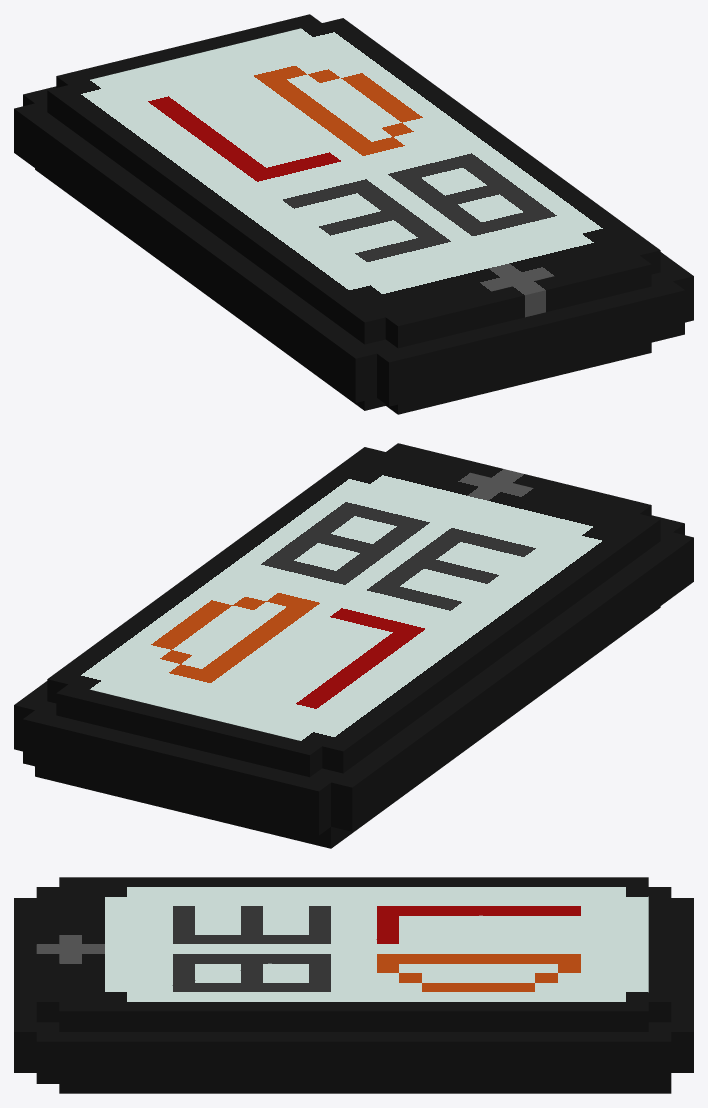
File: Smartphone.fbx
3 renders of one model, top to bottom at view 1: azimuth 30°, elevation 25°; view 2: azimuth 150°, elevation 25°; view 3: azimuth 270°, elevation 25°, orthographic. The views are drawn at different scales.
Visible parts, largest first — view 1: Matrix; view 2: Matrix; view 3: Matrix.
Boxes of the visible parts, <box> form: Matrix: <box>14,14,693,414</box>; Matrix: <box>14,443,693,848</box>; Matrix: <box>14,877,693,1093</box>.
Size of the model in its own units: 16 by 4 by 30.
1 material, 1 textured.
